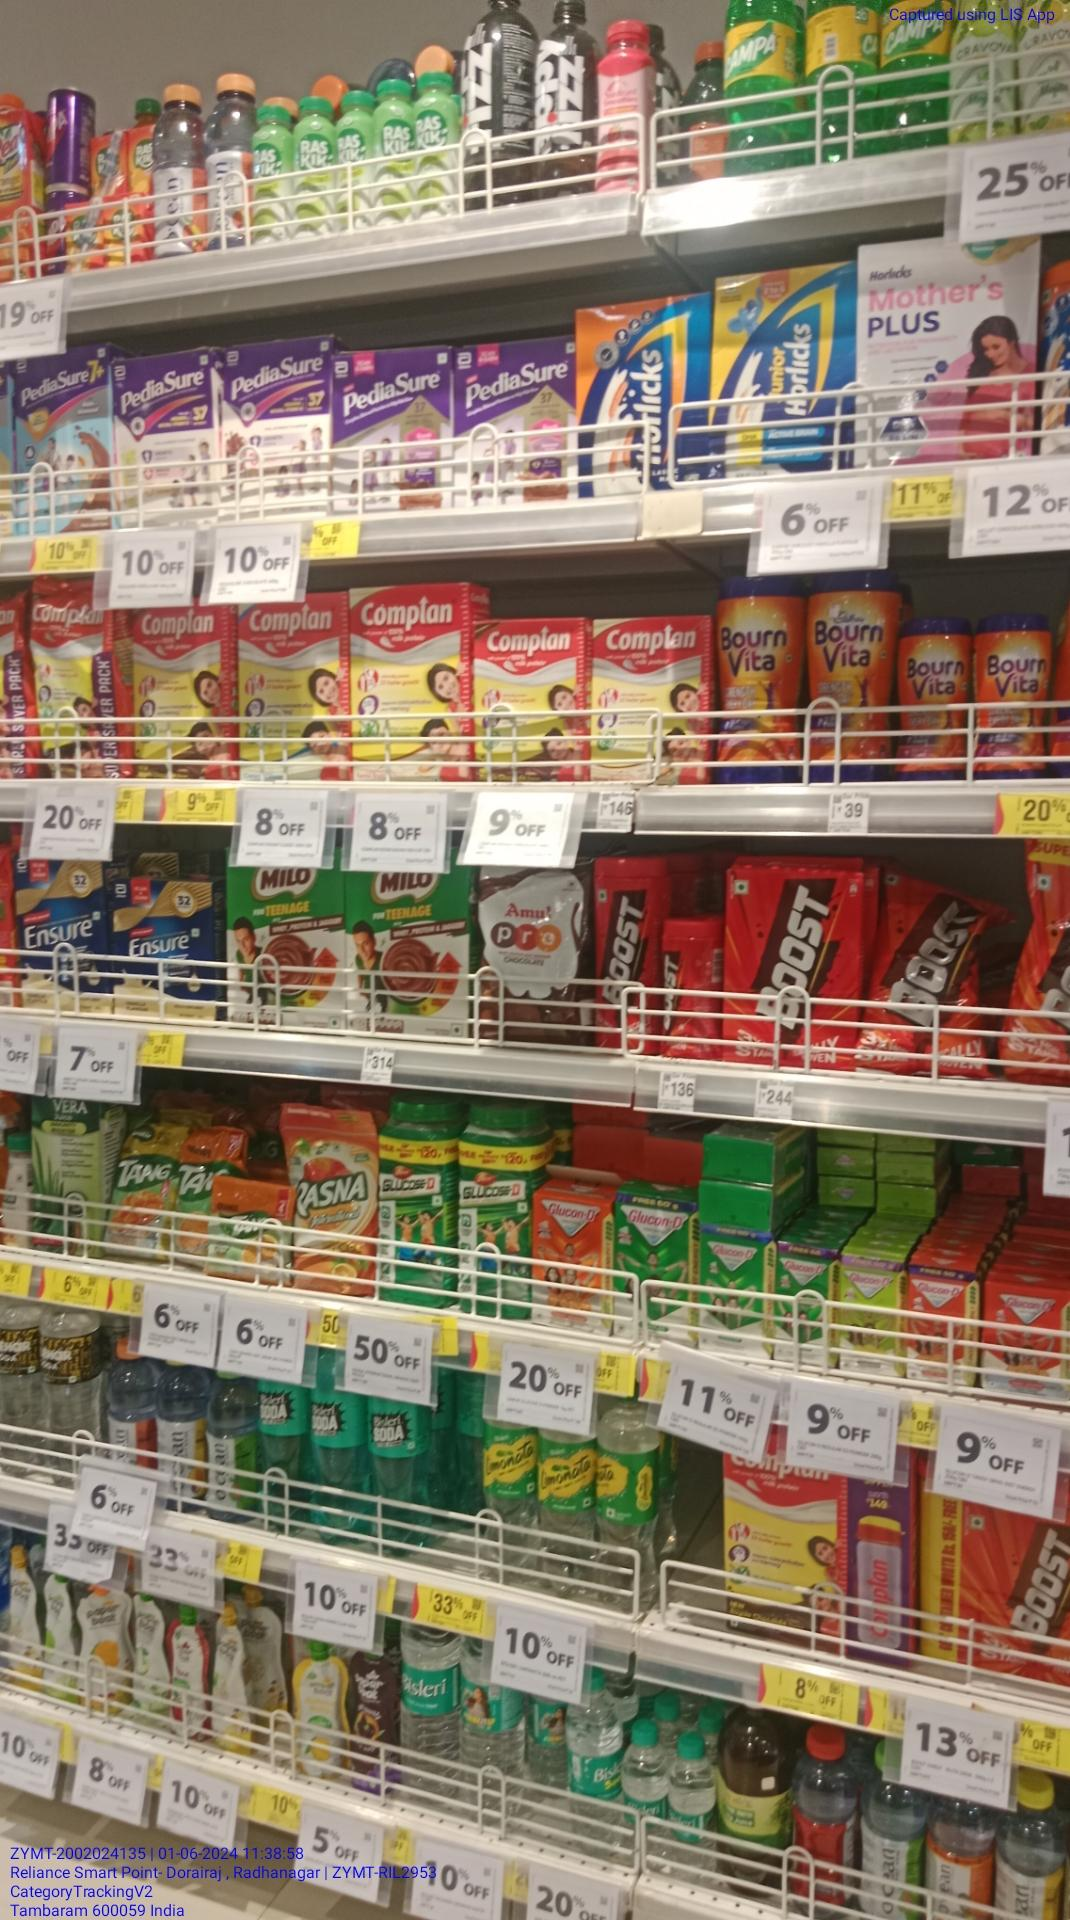COMPLAN_CHOCOLATE_200_GMS_PACK: (472, 617, 592, 779)
COMPLAN_CHOCOLATE_500_GMS_PACK: (129, 604, 235, 781)
COMPLAN_CREAMY_CLASSIC_500_G_PACK: (241, 592, 352, 784)
COMPLAN_KESAR_BADAM_200_GMS_PACK: (593, 615, 706, 785)
COMPLAN_KESAR_BADAM_500_GMS_PACK: (356, 586, 466, 783)
COMPLAN_RC_POUCH_700_GMS_12: (34, 581, 123, 777)
